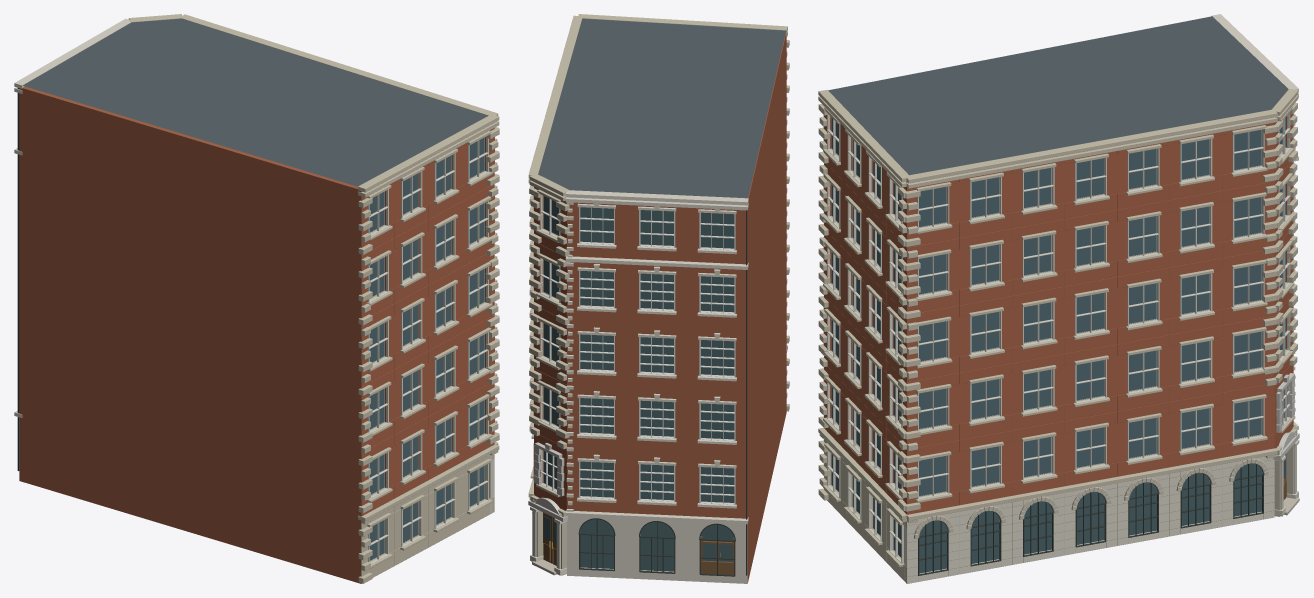
File: 51l-exterior-53ad72880360.glb
3 renders of one model, left to right at view 1: azimuth 30°, elevation 25°; view 2: azimuth 150°, elevation 25°; view 3: azimuth 270°, elevation 25°, orthographic. The views are drawn at different scales.
Visible parts, largest first — view 1: 51L.001; view 2: 51L.001; view 3: 51L.001.
Boxes of the visible parts, left/top/right/bottom form: 51L.001: left=14, top=14, right=499, bottom=583; 51L.001: left=528, top=14, right=789, bottom=583; 51L.001: left=818, top=14, right=1299, bottom=583.
Size of the model in its own units: 18.34 by 20.95 by 22.47.
